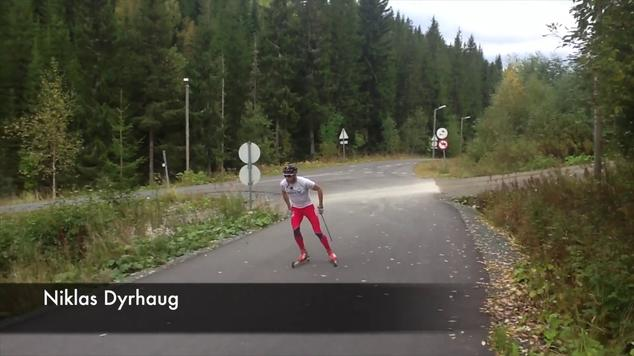walk: (278, 153, 334, 272)
